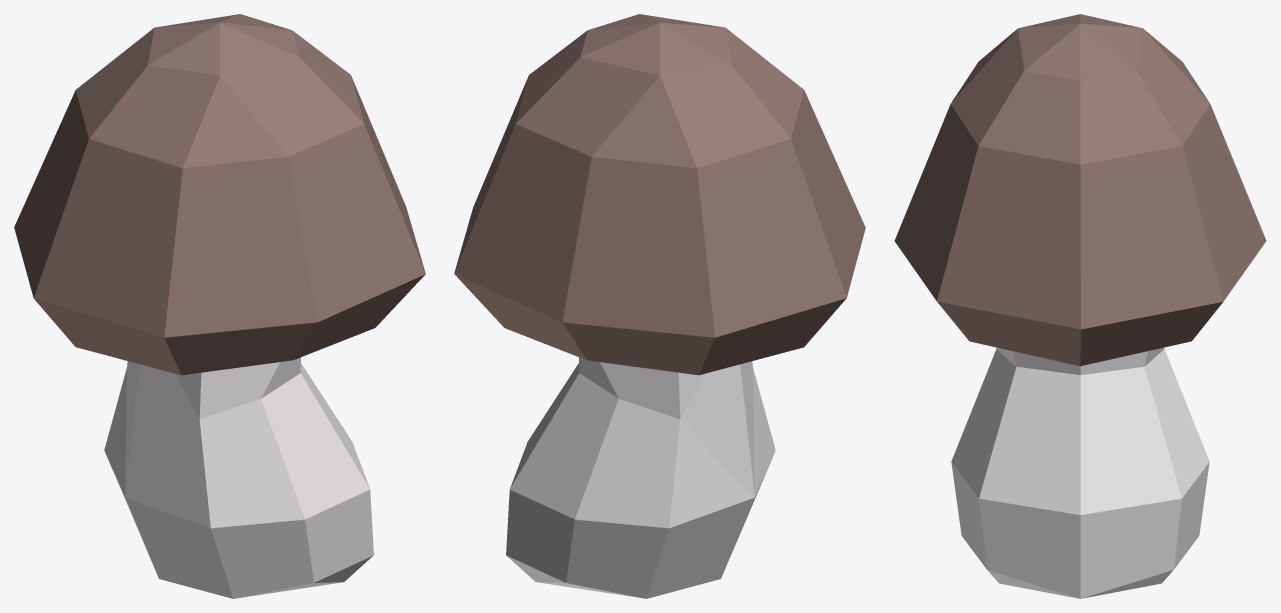
The model's file is Cremini Mushroom.fbx.
3 views of the same model, side by side, from view 1: azimuth 30°, elevation 25°; view 2: azimuth 150°, elevation 25°; view 3: azimuth 270°, elevation 25° (orthographic). The views are drawn at different scales.
Visible parts, largest first — view 1: Cremini Mushroom; view 2: Cremini Mushroom; view 3: Cremini Mushroom.
Part boxes in pixels (x1,y1,x2,y2): Cremini Mushroom: (14, 14, 425, 598); Cremini Mushroom: (454, 14, 865, 598); Cremini Mushroom: (894, 14, 1266, 598).
Size of the model in its own units: 3.32 by 4.65 by 3.01.
